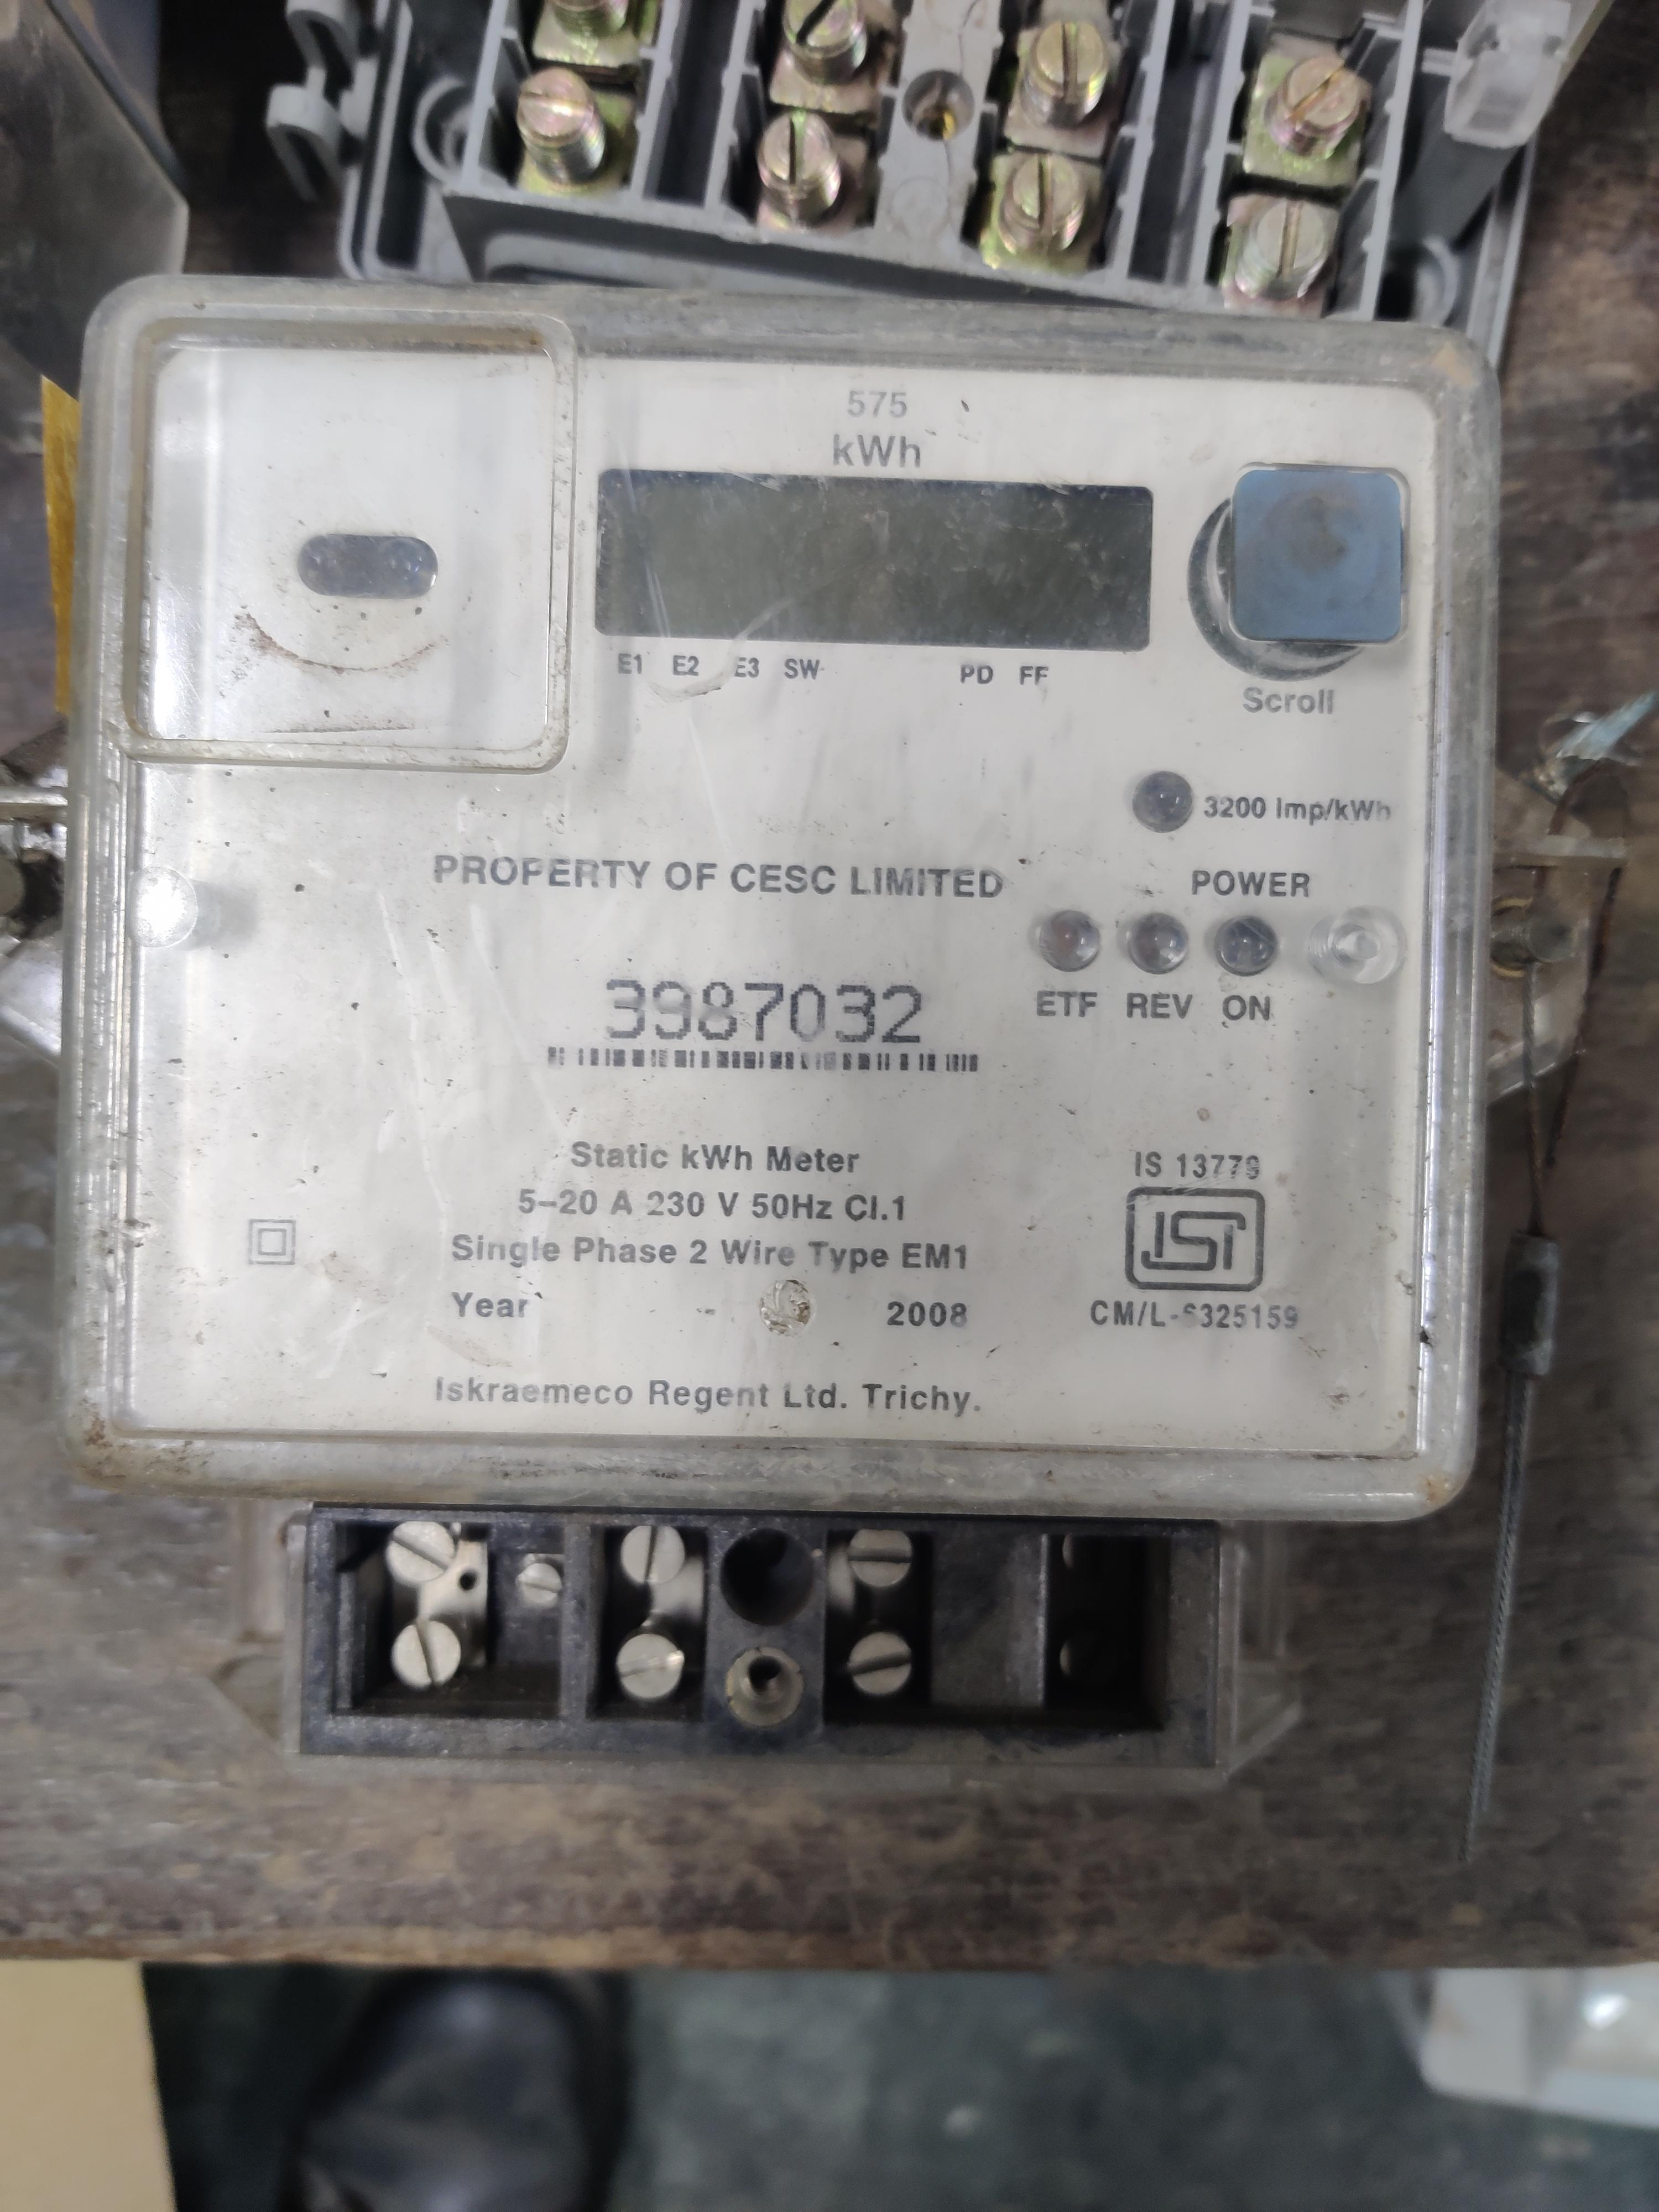meter_readings: (603, 494, 1154, 634)
serial_number: (597, 972, 942, 1043)
